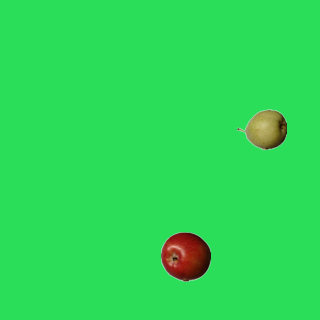Apple Braeburn: (160, 231, 210, 281)
Pear: (236, 104, 286, 154)
